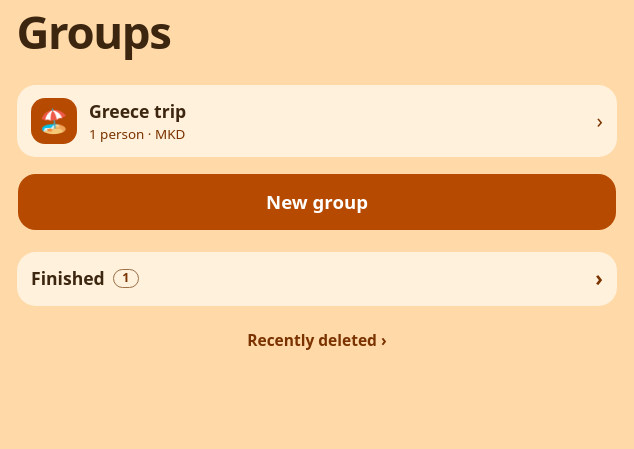
Test: GroupsScreen › shows the finished groups as read-only links when the Finished row is pressed
The width and height of the screenshot is (634, 449).
Expected: the text "Greece trip" is shown, [89,99,186,123]
Click the button "Finished 1 ›".
click(68, 278)  # box [16,252,618,306]
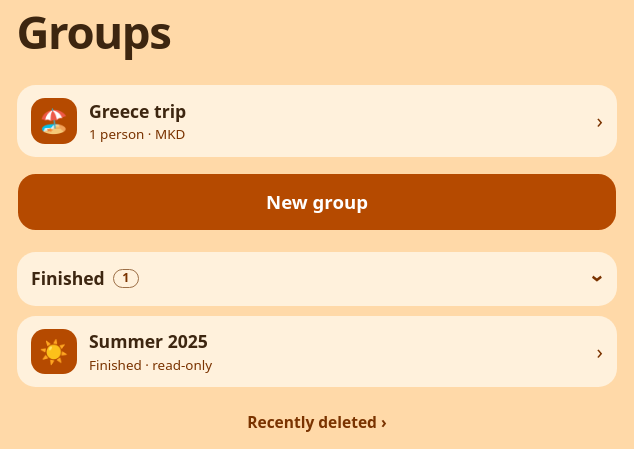
Expected: the text "Finished · read-only" is shown, [89,356,212,374]
